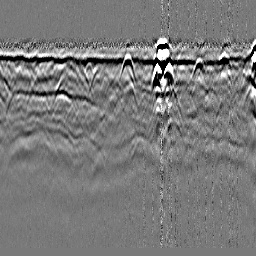cavity: (118, 51, 136, 82)
